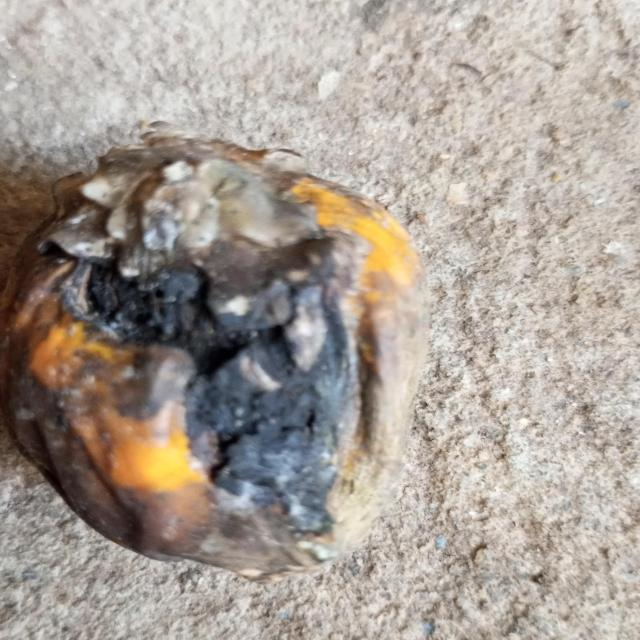damaged: (0, 127, 431, 583)
